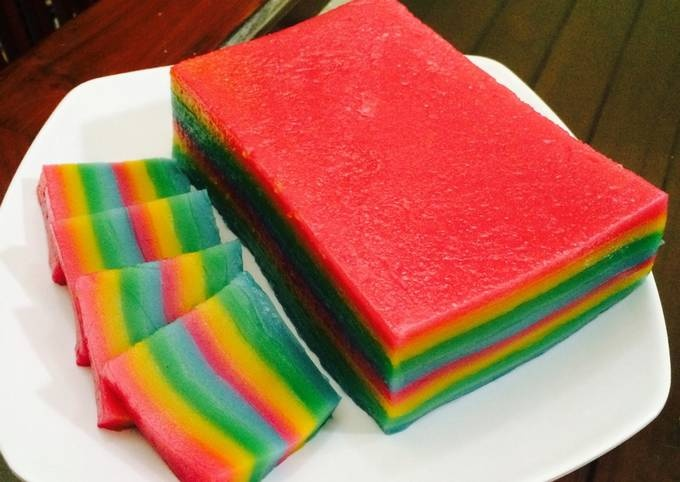kue_lapis_pelangi: (98, 271, 341, 482)
